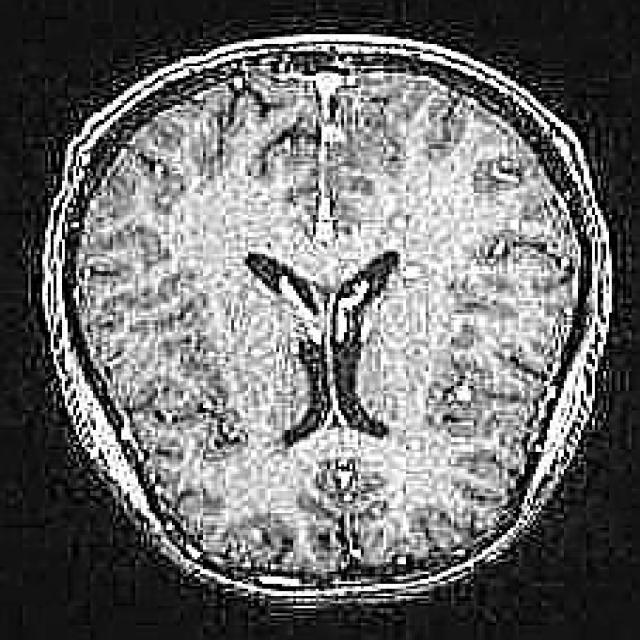notumor: (39, 34, 615, 613)
